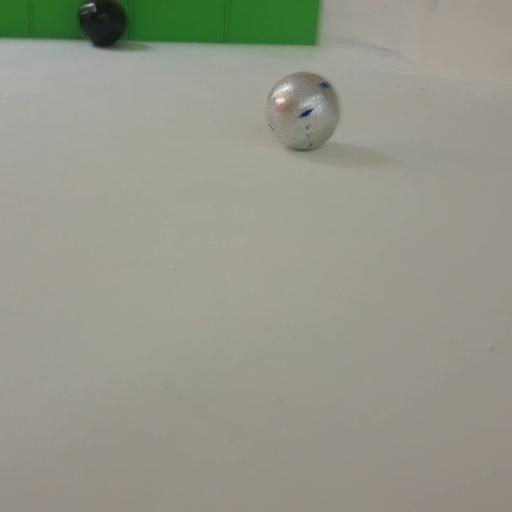alive: (265, 72, 340, 151)
dead: (76, 0, 125, 47)
